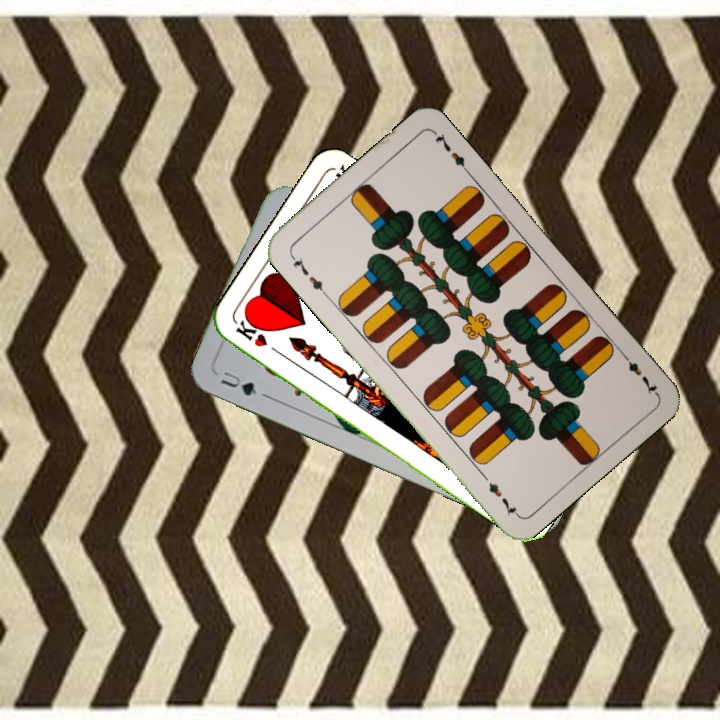E7: (617, 348, 661, 397), (286, 250, 329, 299)
GU: (216, 367, 269, 400)
HK: (231, 316, 285, 359)
